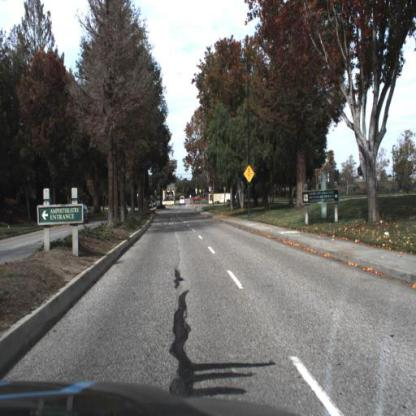car: (151, 200, 158, 208), (148, 202, 154, 210), (181, 197, 186, 206)
pedestrian: (193, 198, 196, 208)
